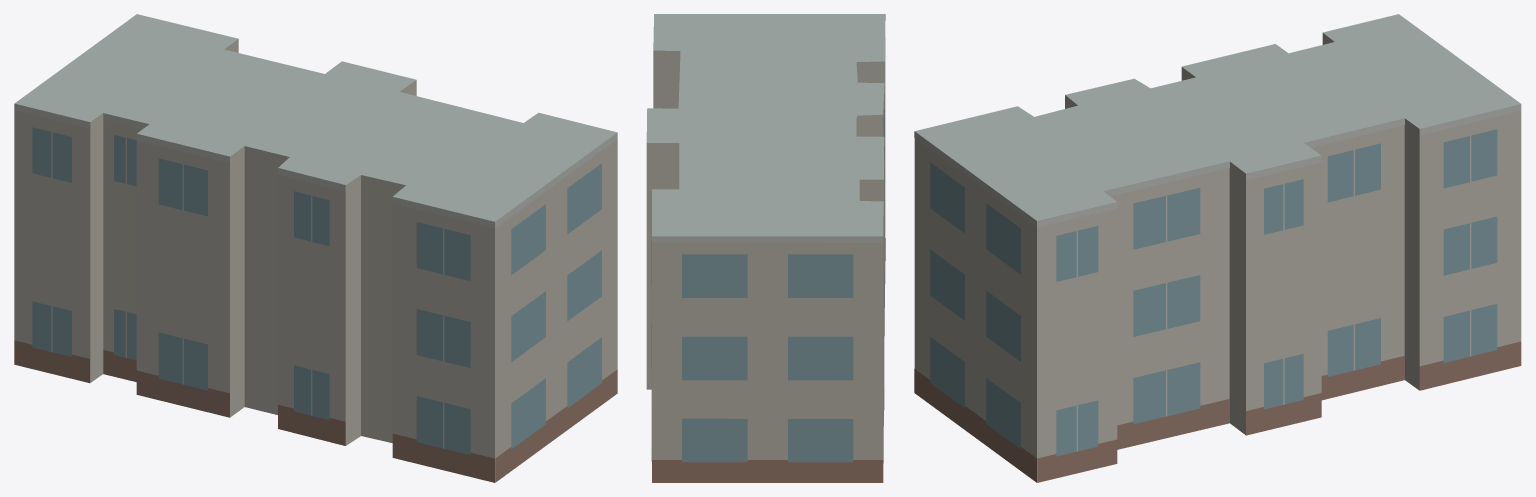
Rendered from survey-upis-32625151.glb.
3 views of the same model, side by side, from view 1: azimuth 30°, elevation 25°; view 2: azimuth 150°, elevation 25°; view 3: azimuth 270°, elevation 25° (orthographic). The views are drawn at different scales.
Visible parts, largest first — view 1: survey-upis-32625151.tmp; view 2: survey-upis-32625151.tmp; view 3: survey-upis-32625151.tmp.
Part boxes in pixels (x1,y1,x2,y2): survey-upis-32625151.tmp: [14, 14, 617, 482]; survey-upis-32625151.tmp: [646, 14, 885, 482]; survey-upis-32625151.tmp: [914, 14, 1521, 482].
Bounding box in the file's own units: 16.29 × 9.6 × 20.17.
